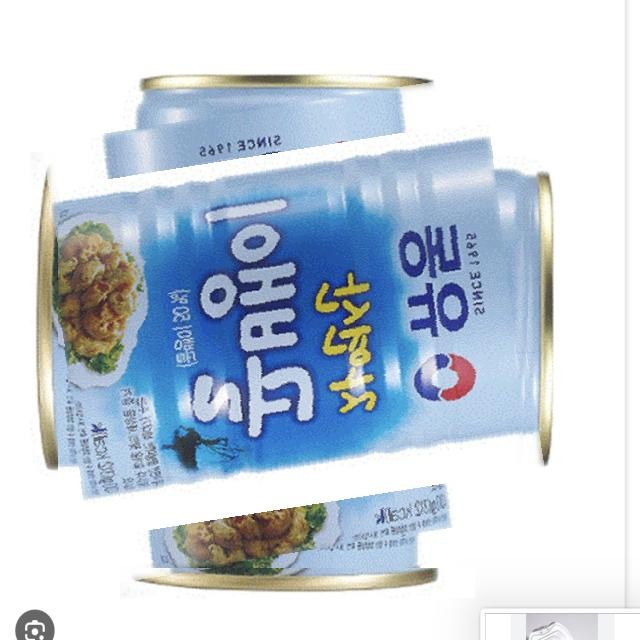recyclable: (59, 91, 536, 568)
